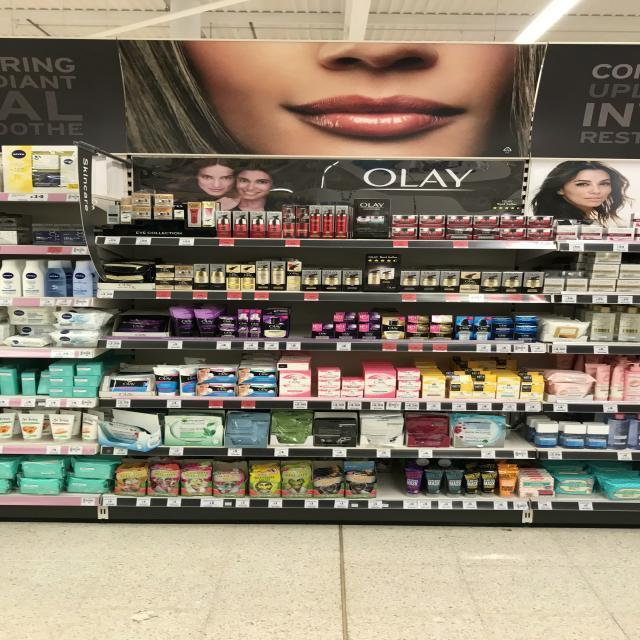empty: (512, 414, 530, 458), (292, 308, 310, 350)
